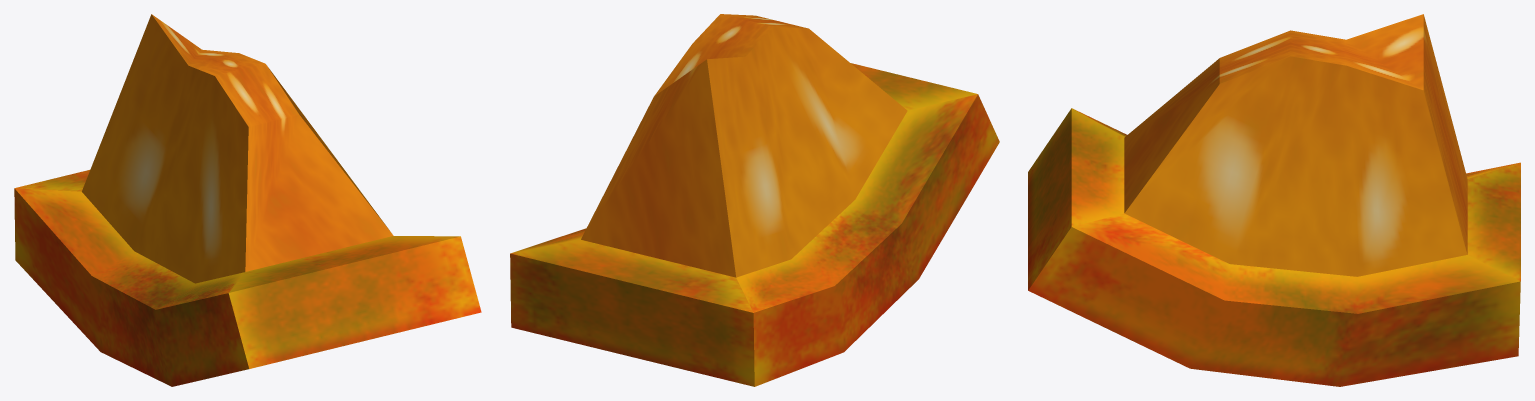
File: pumpkin_gib.fbx
The picture shows the model from 3 angles, left to right: view 1: azimuth 30°, elevation 25°; view 2: azimuth 150°, elevation 25°; view 3: azimuth 270°, elevation 25°; orthographic projection. The views are drawn at different scales.
Visible parts, largest first — view 1: pCube1; view 2: pCube1; view 3: pCube1.
Part boxes in pixels (x1,y1,x2,y2): pCube1: (14, 14, 481, 386); pCube1: (510, 14, 999, 386); pCube1: (1028, 14, 1520, 386).
Bounding box in the file's own units: 4.98 × 5.87 × 8.73.
